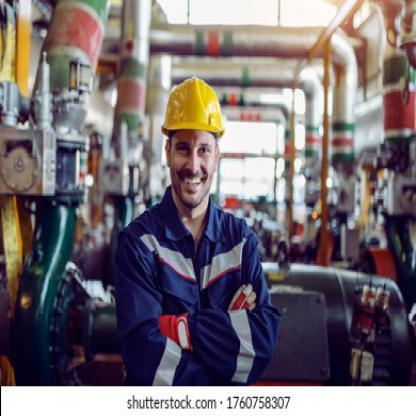with_gloves: (157, 309, 194, 349), (226, 282, 256, 312)
